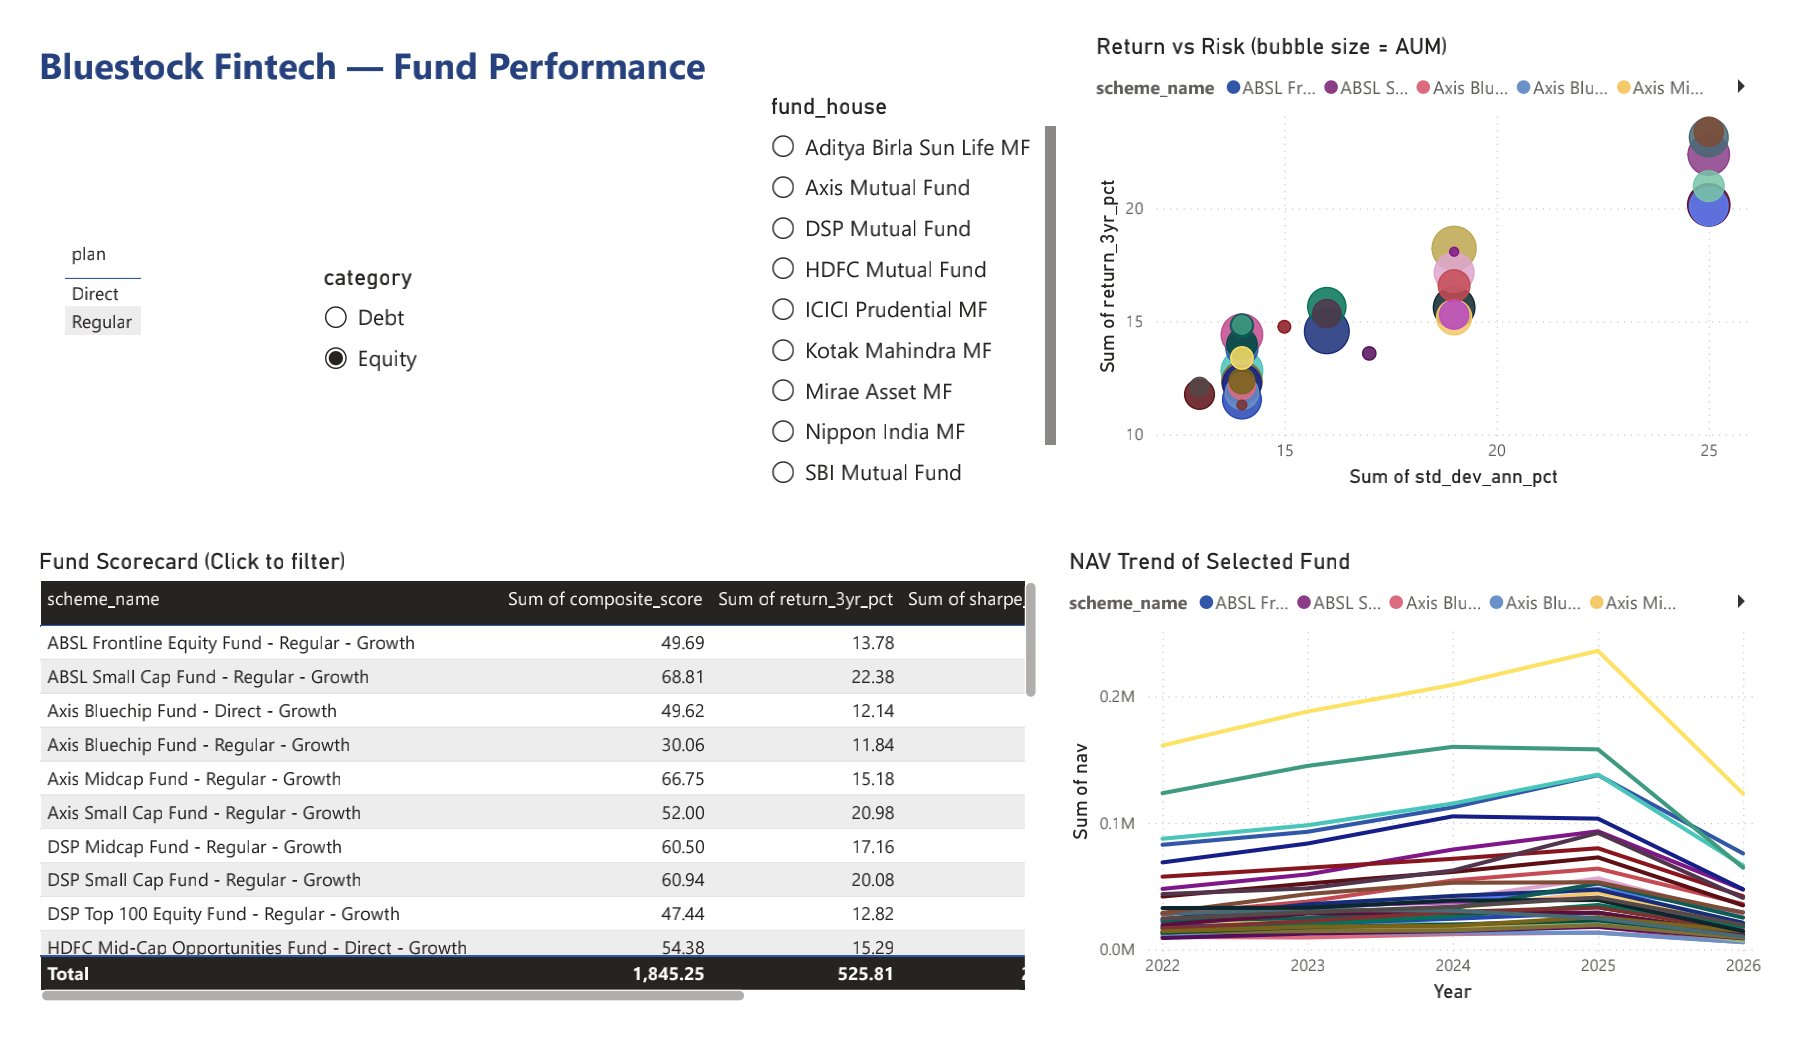

This screenshot's page, from the dashboard's own definition file:
{"tool":"powerbi","page":{"name":"Fund Performance","canvas":[1280,720],"ordinal":1},"visuals":[{"type":"scatterChart","title":"Return vs Risk (bubble size = AUM)","fields":{"X":["Sum(clean_performance.std_dev_ann_pct)"],"Y":["Sum(clean_performance.return_3yr_pct)"],"Size":["Sum(clean_performance.aum_crore)"],"Series":["clean_performance.scheme_name"]},"box":[780,0,500,340],"z":0},{"type":"tableEx","title":"Fund Scorecard (Click to filter)","fields":{"Values":["fund_scorecard.scheme_name","Sum(fund_scorecard.composite_score)","Sum(fund_scorecard.return_3yr_pct)","Sum(fund_scorecard.sharpe_ratio)","Sum(fund_scorecard.alpha)","Sum(fund_scorecard.expense_ratio_pct)"]},"box":[0,380,746,340],"z":1000},{"type":"lineChart","title":"NAV Trend of Selected Fund","fields":{"Category":["clean_nav.date.Variation.Date Hierarchy.Year","clean_nav.date.Variation.Date Hierarchy.Quarter","clean_nav.date.Variation.Date Hierarchy.Month","clean_nav.date.Variation.Date Hierarchy.Day"],"Y":["Sum(clean_nav.nav)"],"Series":["clean_fund_master.scheme_name"]},"box":[760,380,520,340],"z":2000},{"type":"listSlicer","fields":{"Values":["clean_fund_master.fund_house"]},"box":[540,44,220,296],"z":3000},{"type":"listSlicer","fields":{"Values":["clean_fund_master.category"]},"box":[210,170,192,150],"z":4000},{"type":"tableEx","fields":{"Values":["clean_fund_master.plan"]},"box":[18,148,150,148],"z":5000},{"type":"textbox","box":[0,0,540,76],"z":6000}]}

Visuals, with their boxes in screenshot pixels (x1, y1, x2, y2), scaled from the page's 1280x720 canvas onto the 1800x1041 screenshot:
"Return vs Risk (bubble size = AUM)" scatterChart: (x1=1097, y1=0, x2=1799, y2=492)
"Fund Scorecard (Click to filter)" tableEx: (x1=0, y1=549, x2=1049, y2=1040)
"NAV Trend of Selected Fund" lineChart: (x1=1069, y1=549, x2=1799, y2=1040)
listSlicer - clean_fund_master.fund_house: (x1=759, y1=64, x2=1069, y2=492)
listSlicer - clean_fund_master.category: (x1=295, y1=246, x2=565, y2=463)
tableEx - clean_fund_master.plan: (x1=25, y1=214, x2=236, y2=428)
textbox: (x1=0, y1=0, x2=759, y2=110)
